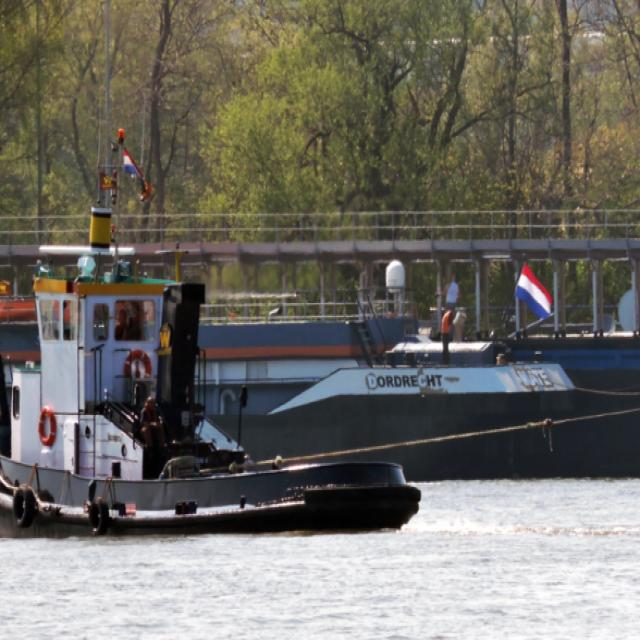tugboat: (1, 199, 428, 548)
